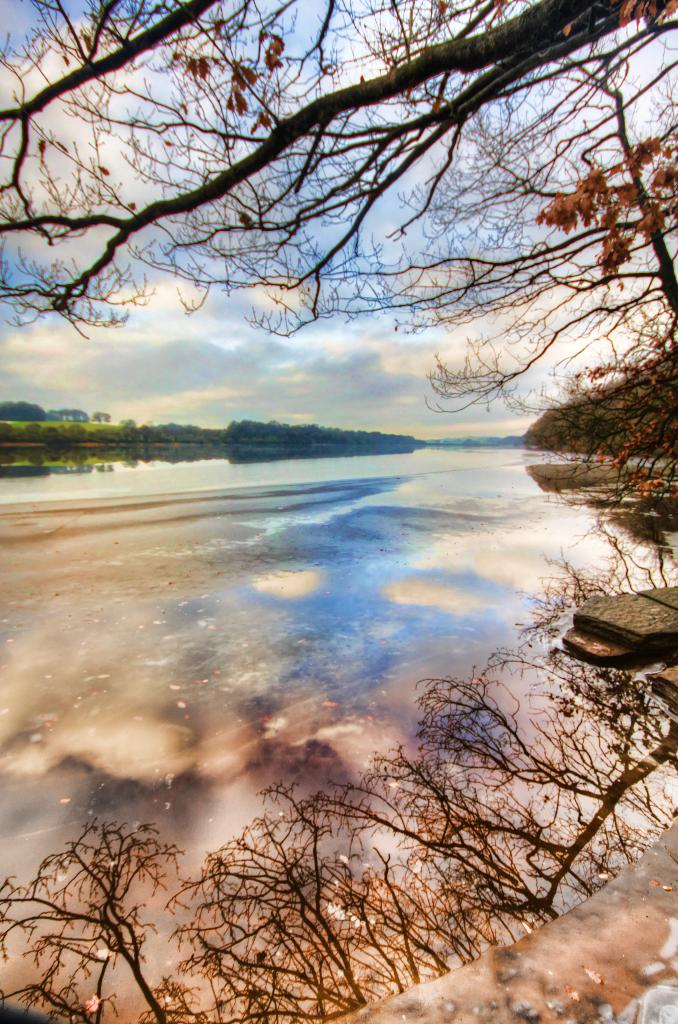Tree: (5, 0, 678, 572)
